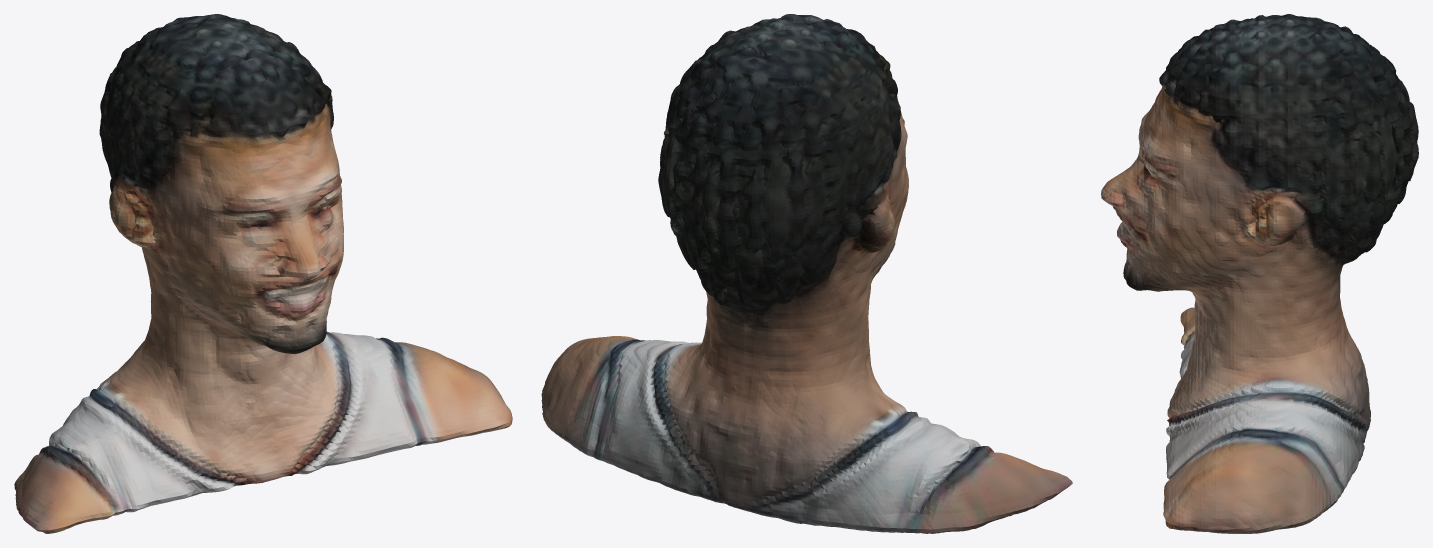
3 views of the same model, side by side, from view 1: azimuth 30°, elevation 25°; view 2: azimuth 150°, elevation 25°; view 3: azimuth 270°, elevation 25° (orthographic). The views are drawn at different scales.
Parts seen in each view (by area): view 1: geometry_0; view 2: geometry_0; view 3: geometry_0.
Part boxes in pixels (x1,y1,x2,y2): geometry_0: [14, 14, 512, 533]; geometry_0: [541, 14, 1072, 533]; geometry_0: [1101, 14, 1418, 533].
Bounding box in the file's own units: 1.01 × 0.8553 × 0.6033.
